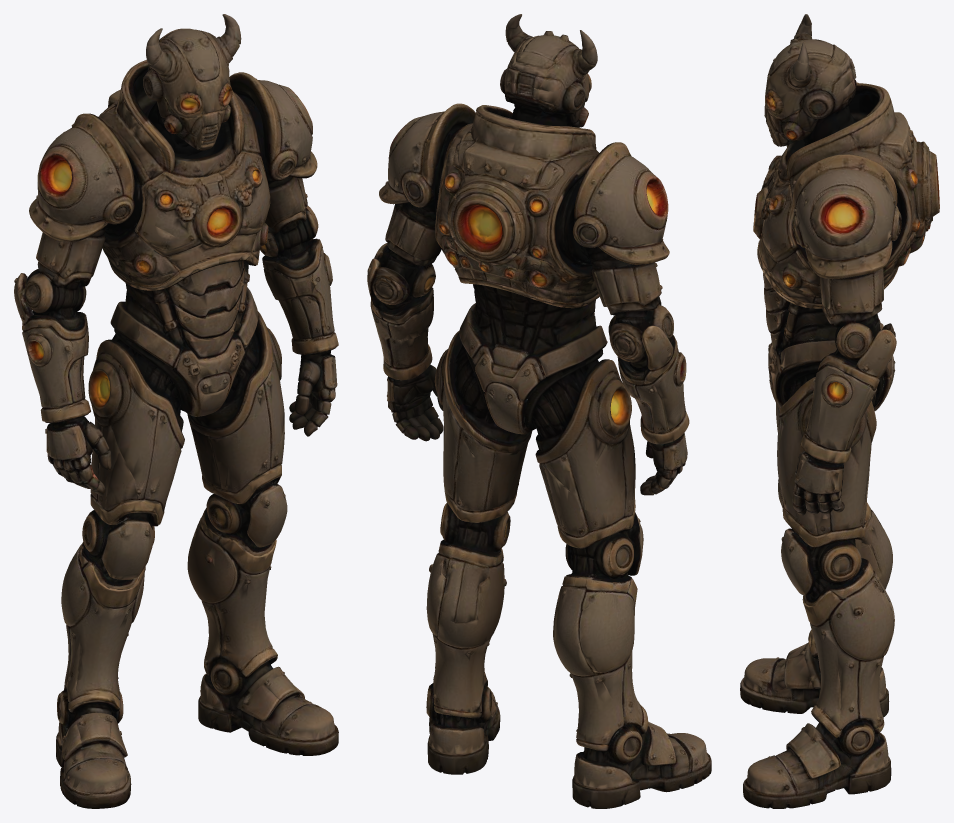
Rendered from warden.glb.
3 views of the same model, side by side, from view 1: azimuth 30°, elevation 25°; view 2: azimuth 150°, elevation 25°; view 3: azimuth 270°, elevation 25° (orthographic). The views are drawn at different scales.
Parts seen in each view (by area): view 1: tripo_node_f3d19db0-35d6-4ec0-8f2a-7dbe8326267b; view 2: tripo_node_f3d19db0-35d6-4ec0-8f2a-7dbe8326267b; view 3: tripo_node_f3d19db0-35d6-4ec0-8f2a-7dbe8326267b.
Boxes of the visible parts, bbox=[...] form: tripo_node_f3d19db0-35d6-4ec0-8f2a-7dbe8326267b: bbox=[14, 14, 338, 808]; tripo_node_f3d19db0-35d6-4ec0-8f2a-7dbe8326267b: bbox=[367, 14, 711, 808]; tripo_node_f3d19db0-35d6-4ec0-8f2a-7dbe8326267b: bbox=[740, 14, 939, 808].
Size of the model in its own units: 0.4219 by 0.98 by 0.2459.
1 material, 1 textured.
